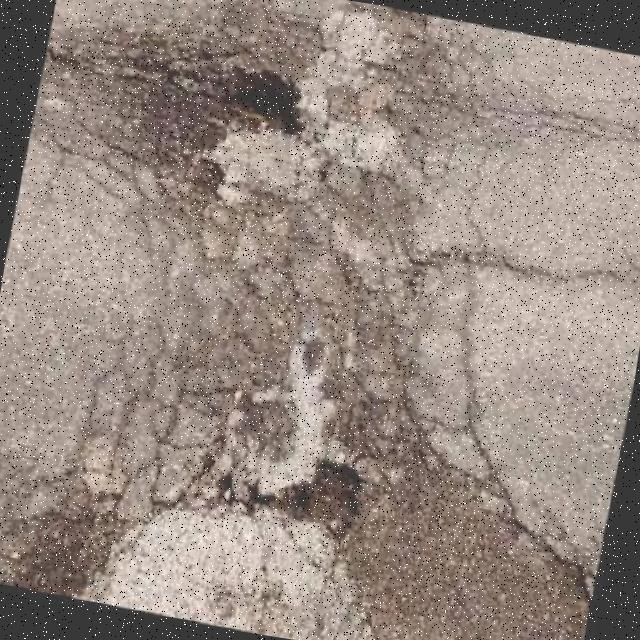Pothole: (249, 462, 361, 540), (222, 69, 304, 134)
